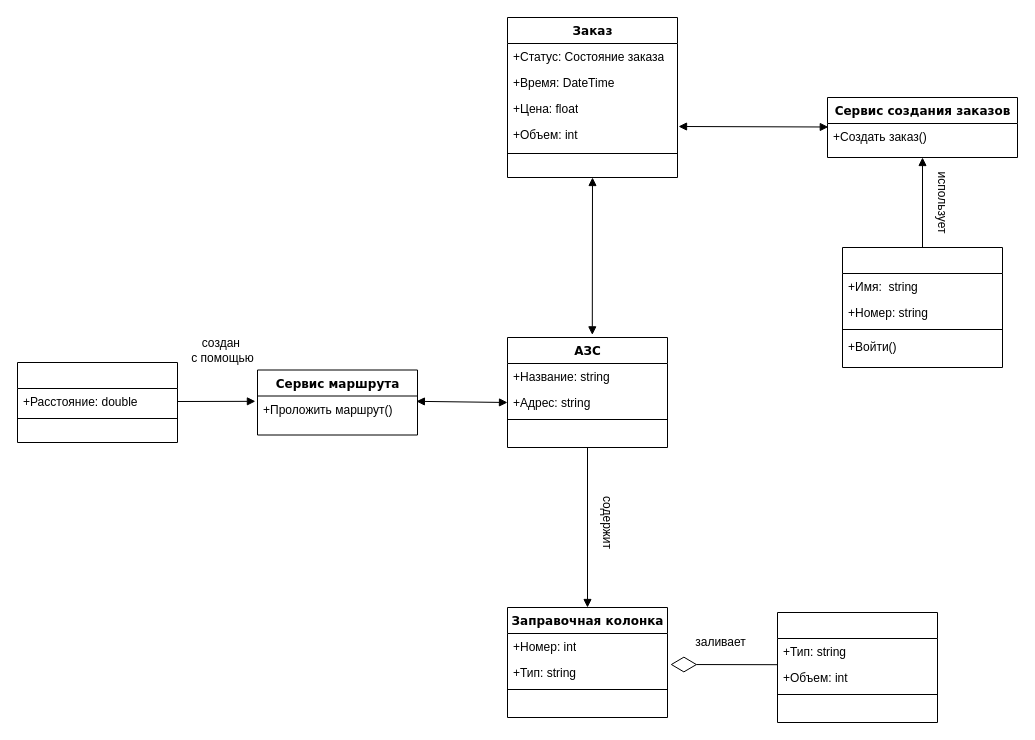
Image size: 1035x740. Some labels were removed from this diagram. Here are the shapes that lost their labels. From the top down, the box of each, then its label:
(842, 246, 1002, 368): Пользователь
(16, 362, 178, 442): Маршрут
(776, 612, 938, 722): Топливо
